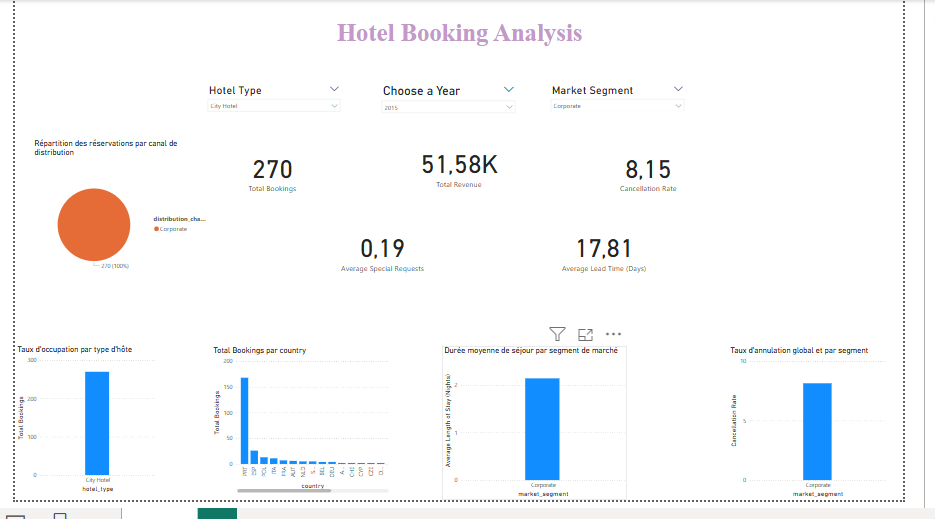

Layout of this report page (visuals, bound fields, positions):
{"tool":"powerbi","page":{"name":"Page 1","canvas":[1920,1080],"ordinal":0},"visuals":[{"type":"columnChart","title":"Taux d''occupation par type d''hôte","fields":{"Y":["dw_final fact_booking.Total Bookings"],"Category":["dw_final dim_hotel.hotel_type"]},"box":[0,745.2,306.7,324],"z":0},{"type":"card","fields":{"Values":["dw_final fact_booking.Total Revenue"]},"box":[794.9,285.1,328.3,146.9],"z":1000},{"type":"clusteredColumnChart","title":"Durée moyenne de séjour par segment de marché","fields":{"Category":["dw_final dim_sales_channel.market_segment"],"Y":["dw_final fact_booking.Average Length of Stay (Nights)"]},"box":[922.3,747.4,399.6,332.6],"z":2000},{"type":"card","fields":{"Values":["dw_final fact_booking.Cancellation Rate"]},"box":[1196.6,285.1,343.4,166.3],"z":3000},{"type":"clusteredColumnChart","title":"Taux d''annulation global et par segment","fields":{"Category":["dw_final dim_sales_channel.market_segment"],"Y":["dw_final fact_booking.Cancellation Rate"]},"box":[1540.1,747.4,345.6,332.6],"z":4000},{"type":"card","title":"Délai moyen entre réservation et arrivée","fields":{"Values":["dw_final fact_booking.Average Lead Time (Days)"]},"box":[1123.2,466.6,298.1,146.9],"z":5000},{"type":"clusteredColumnChart","fields":{"Category":["dw_final dim_guest.country"],"Y":["dw_final fact_booking.Total Bookings"]},"box":[423.4,747.4,388.8,321.8],"z":6000},{"type":"card","fields":{"Values":["dw_final fact_booking.Average Special Requests"]},"box":[643.7,466.6,300.2,146.9],"z":7000},{"type":"card","fields":{"Values":["dw_final fact_booking.Total Bookings"]},"box":[406.1,285.1,300.2,166.3],"z":8000},{"type":"textbox","box":[0,0,1920.1,240.7],"z":9000},{"type":"slicer","fields":{"Values":["dw_final dim_time.year_num"]},"box":[781.9,175,308.9,129.6],"z":10000},{"type":"pieChart","title":"Répartition des réservations par canal de distribution ","fields":{"Y":["dw_final fact_booking.Total Bookings"],"Category":["dw_final dim_sales_channel.distribution_channel"]},"box":[36.7,300.2,386.6,332.6],"z":11000},{"type":"slicer","fields":{"Values":["dw_final dim_hotel.hotel_type"]},"box":[406.1,175,306.7,129.6],"z":12000},{"type":"slicer","fields":{"Values":["dw_final dim_sales_channel.market_segment"]},"box":[1147,175,308.9,64.8],"z":13000}]}

Visuals, with their boxes in screenshot pixels (x1, y1, x2, y2), scaled from the page's 1920x1080 canvas onto the 935x519 screenshot:
"Taux d''occupation par type d''hôte" columnChart: (0,358,149,514)
card - dw_final fact_booking.Total Revenue: (387,137,547,208)
"Durée moyenne de séjour par segment de marché" clusteredColumnChart: (449,359,644,518)
card - dw_final fact_booking.Cancellation Rate: (583,137,750,217)
"Taux d''annulation global et par segment" clusteredColumnChart: (750,359,918,518)
"Délai moyen entre réservation et arrivée" card: (547,224,692,295)
clusteredColumnChart - dw_final dim_guest.country x dw_final fact_booking.Total Bookings: (206,359,396,514)
card - dw_final fact_booking.Average Special Requests: (313,224,460,295)
card - dw_final fact_booking.Total Bookings: (198,137,344,217)
textbox: (0,0,934,116)
slicer - dw_final dim_time.year_num: (381,84,531,146)
"Répartition des réservations par canal de distribution " pieChart: (18,144,206,304)
slicer - dw_final dim_hotel.hotel_type: (198,84,347,146)
slicer - dw_final dim_sales_channel.market_segment: (559,84,709,115)
